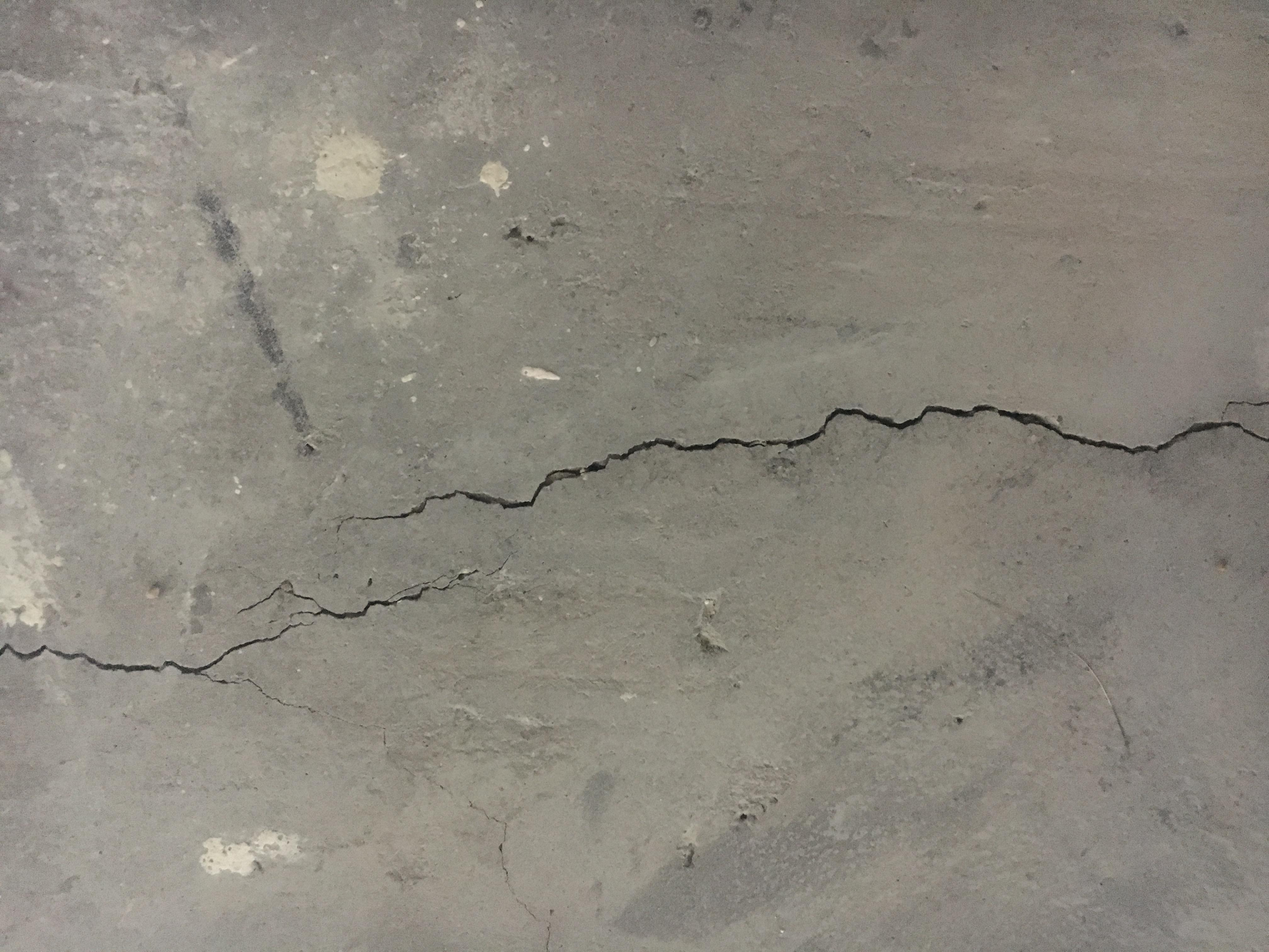Horizontal Settlement Crack: (0, 376, 1269, 725)
